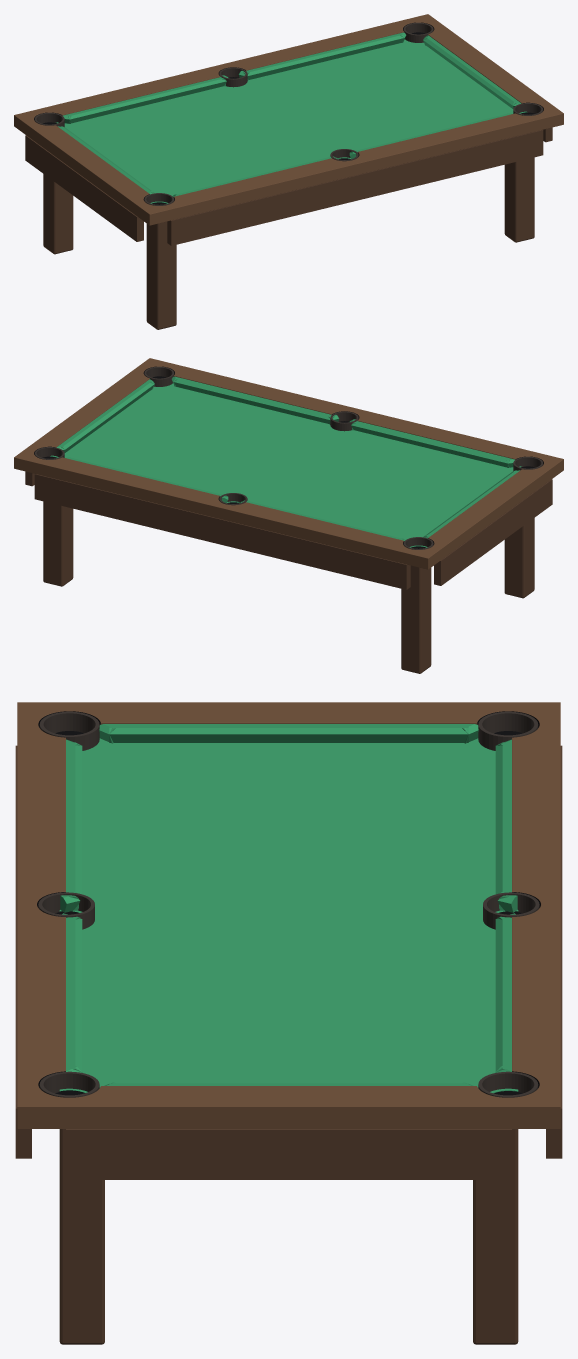
File: table_pool.glb
3 renders of one model, top to bottom at view 1: azimuth 30°, elevation 25°; view 2: azimuth 150°, elevation 25°; view 3: azimuth 270°, elevation 25°, orthographic. The views are drawn at different scales.
Parts seen in each view (by area): view 1: Bed, Rails, SkirtN, SkirtW, Leg-1-1, Leg1-1, Leg-11, Cushion1, Cushion0, Cushion4, Cushion5, Casting0 (+1 smaller); view 2: Bed, Rails, SkirtS, SkirtW, Leg-11, Leg11, Leg-1-1, Cushion3, Cushion2, Cushion4, Cushion5, Casting1 (+1 smaller); view 3: Bed, Rails, SkirtE, Leg1-1, Leg11, Cushion5, Cushion0, Cushion2, Cushion3, Cushion1, SkirtN, SkirtS (+7 smaller).
Boxes of the visible parts, x1,y1,x2,y2 form: Bed: (56, 39, 527, 203); Rails: (14, 14, 563, 225); SkirtN: (167, 130, 543, 245); SkirtW: (25, 135, 143, 241); Leg-1-1: (146, 221, 176, 329); Leg1-1: (504, 157, 534, 242); Leg-11: (43, 174, 73, 254); Cushion1: (243, 33, 404, 79); Cushion0: (67, 76, 226, 123); Cushion4: (423, 36, 517, 108); Cushion5: (59, 126, 154, 192); Casting0: (403, 22, 433, 42); Bed: (50, 383, 521, 547); Rails: (14, 358, 563, 569); SkirtS: (34, 474, 410, 589); SkirtW: (434, 479, 552, 585); Leg-11: (401, 565, 431, 673); Leg11: (43, 501, 73, 586); Leg-1-1: (504, 518, 534, 598); Cushion3: (173, 377, 334, 423); Cushion2: (351, 420, 510, 467); Cushion4: (60, 380, 154, 452); Cushion5: (423, 470, 517, 536); Casting1: (144, 366, 174, 386); Bed: (59, 738, 518, 1093); Rails: (17, 702, 560, 1128); SkirtE: (66, 1129, 511, 1179); Leg1-1: (59, 1129, 104, 1344); Leg11: (473, 1129, 518, 1344); Cushion5: (109, 724, 468, 742); Cushion0: (495, 742, 511, 910); Cushion2: (66, 742, 82, 910); Cushion3: (66, 918, 82, 1071); Cushion1: (495, 918, 511, 1071); SkirtN: (15, 745, 31, 1158); SkirtS: (546, 745, 562, 1158).
Size of the model in its own units: 2.95 by 0.872 by 1.68.
